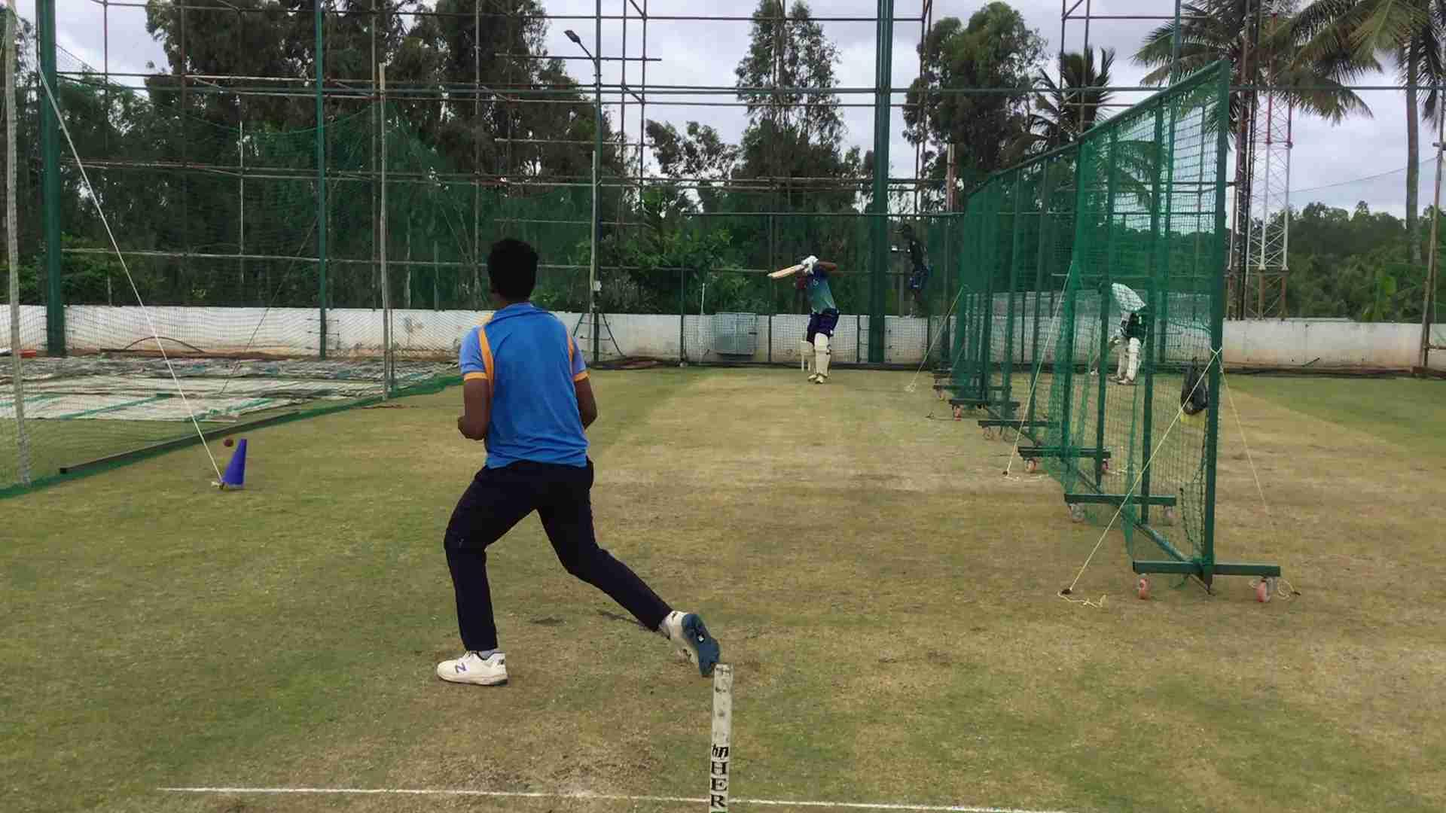batsman: (784, 245, 841, 387)
